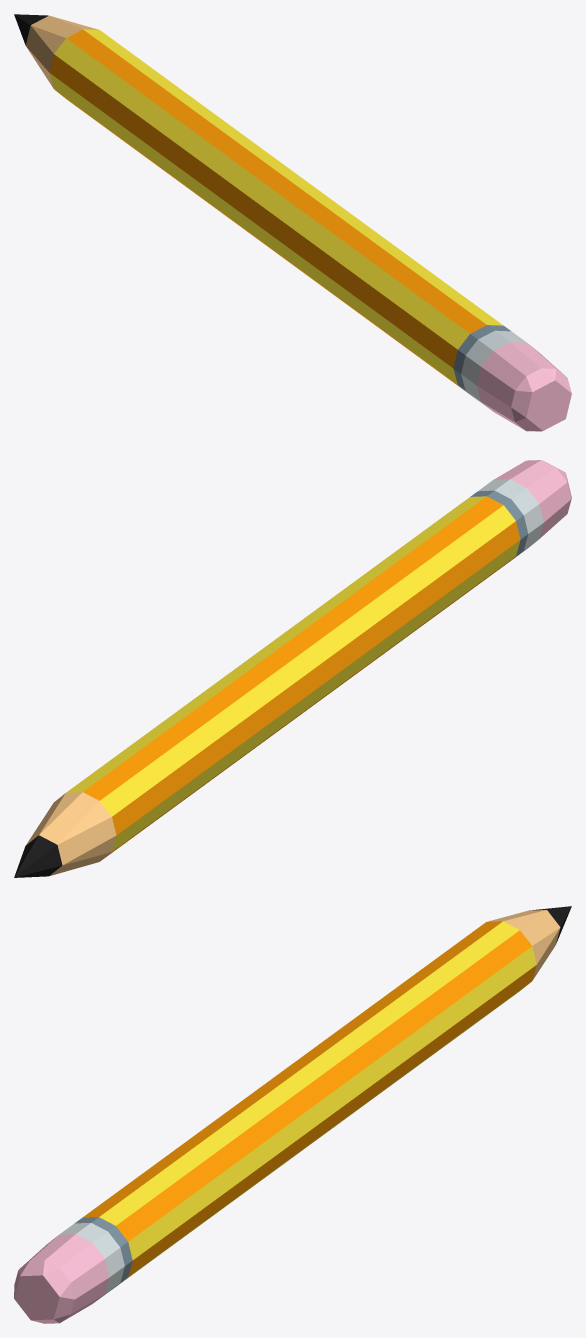
File: pencil--by-aaron-clifford-fDASaUAeqeD.glb
3 renders of one model, top to bottom at view 1: azimuth 30°, elevation 25°; view 2: azimuth 150°, elevation 25°; view 3: azimuth 330°, elevation 25°, orthographic.
Visible parts, largest first — view 1: group162456899; view 2: group162456899; view 3: group162456899.
Part boxes in pixels (x1,y1,x2,y2): group162456899: [14, 14, 571, 431]; group162456899: [14, 460, 571, 877]; group162456899: [14, 906, 571, 1323].
Size of the model in its own units: 0.05 by 0.05 by 0.6887.
